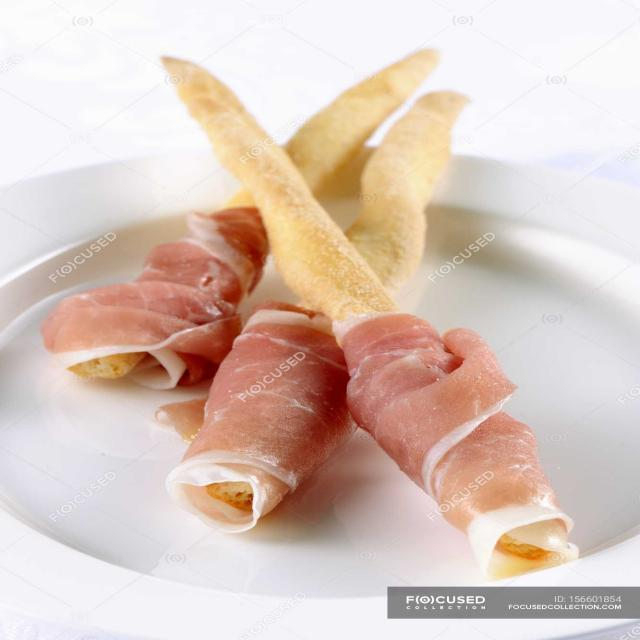Grissini: (71, 54, 609, 571)
